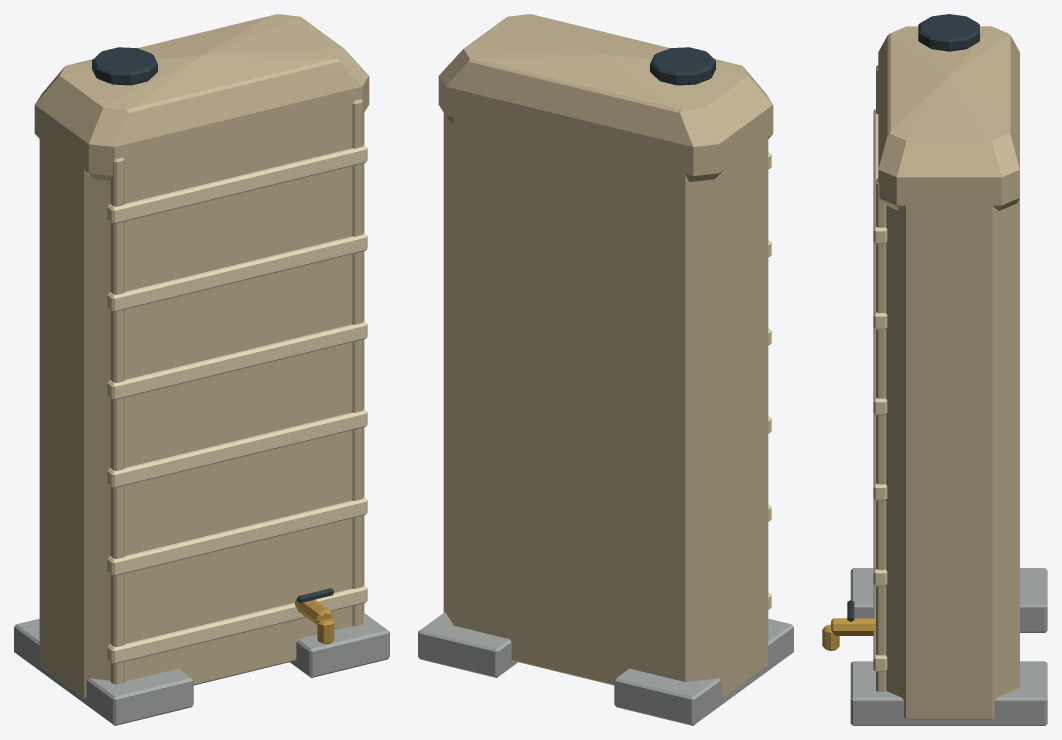
The model's file is b11_slim_wall_rainwater_tank.glb.
The picture shows the model from 3 angles, left to right: view 1: azimuth 30°, elevation 25°; view 2: azimuth 150°, elevation 25°; view 3: azimuth 270°, elevation 25°; orthographic projection. The views are drawn at different scales.
Parts seen in each view (by area): view 1: b11_slim_wall_rainwater_tank; view 2: b11_slim_wall_rainwater_tank; view 3: b11_slim_wall_rainwater_tank.
Boxes of the visible parts, x1,y1,x2,y2 form: b11_slim_wall_rainwater_tank: (14, 14, 389, 725); b11_slim_wall_rainwater_tank: (418, 14, 793, 725); b11_slim_wall_rainwater_tank: (822, 14, 1047, 725).
Size of the model in its own units: 0.8 by 1.68 by 0.572.
